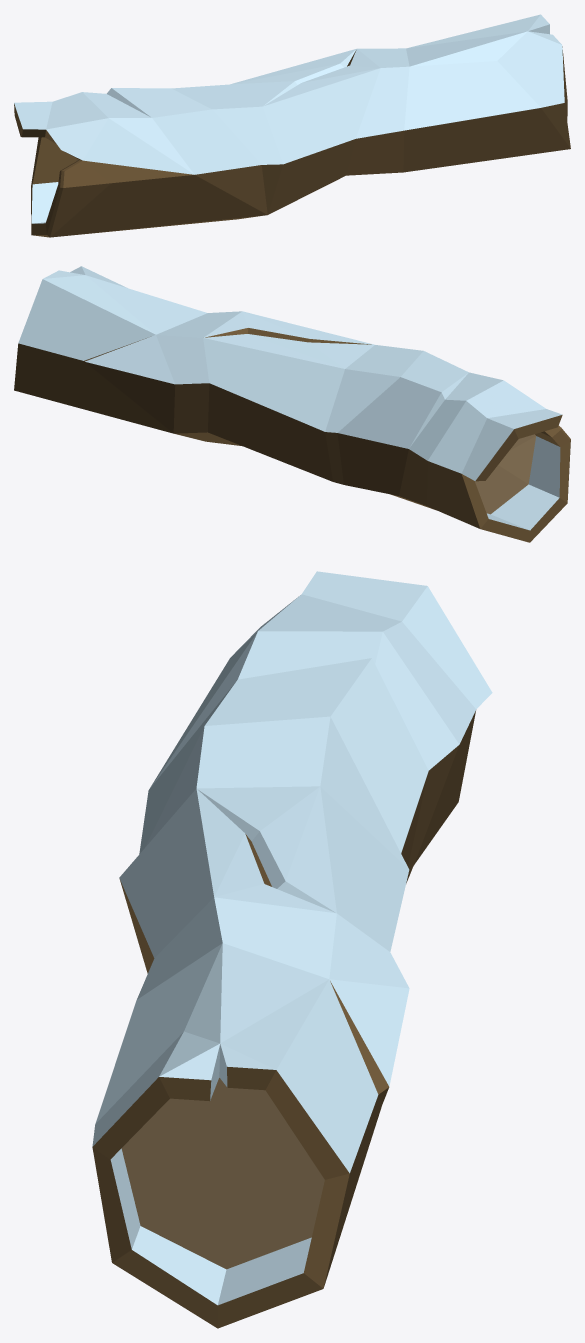
File: model_polytope_snow_log_tree.fbx
3 views of the same model, one above another, from view 1: azimuth 30°, elevation 25°; view 2: azimuth 150°, elevation 25°; view 3: azimuth 270°, elevation 25° (orthographic). The views are drawn at different scales.
Visible parts, largest first — view 1: model_polytope_snow_log_tree; view 2: model_polytope_snow_log_tree; view 3: model_polytope_snow_log_tree.
Boxes of the visible parts, x1,y1,x2,y2 form: model_polytope_snow_log_tree: [14, 14, 570, 237]; model_polytope_snow_log_tree: [14, 266, 570, 542]; model_polytope_snow_log_tree: [92, 571, 492, 1328].
Bounding box in the file's own units: 244 × 60.19 × 80.72.
1 material, 1 textured.
